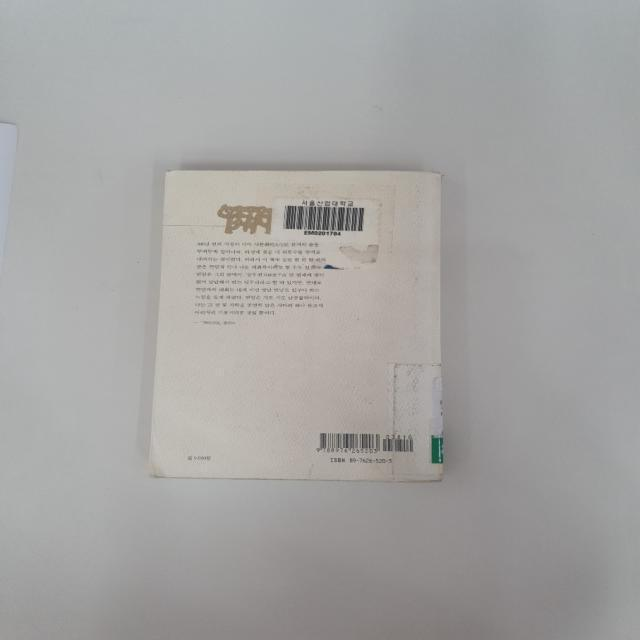Wornout: (378, 165, 451, 180), (145, 434, 166, 480), (228, 471, 303, 483), (161, 165, 194, 176)
